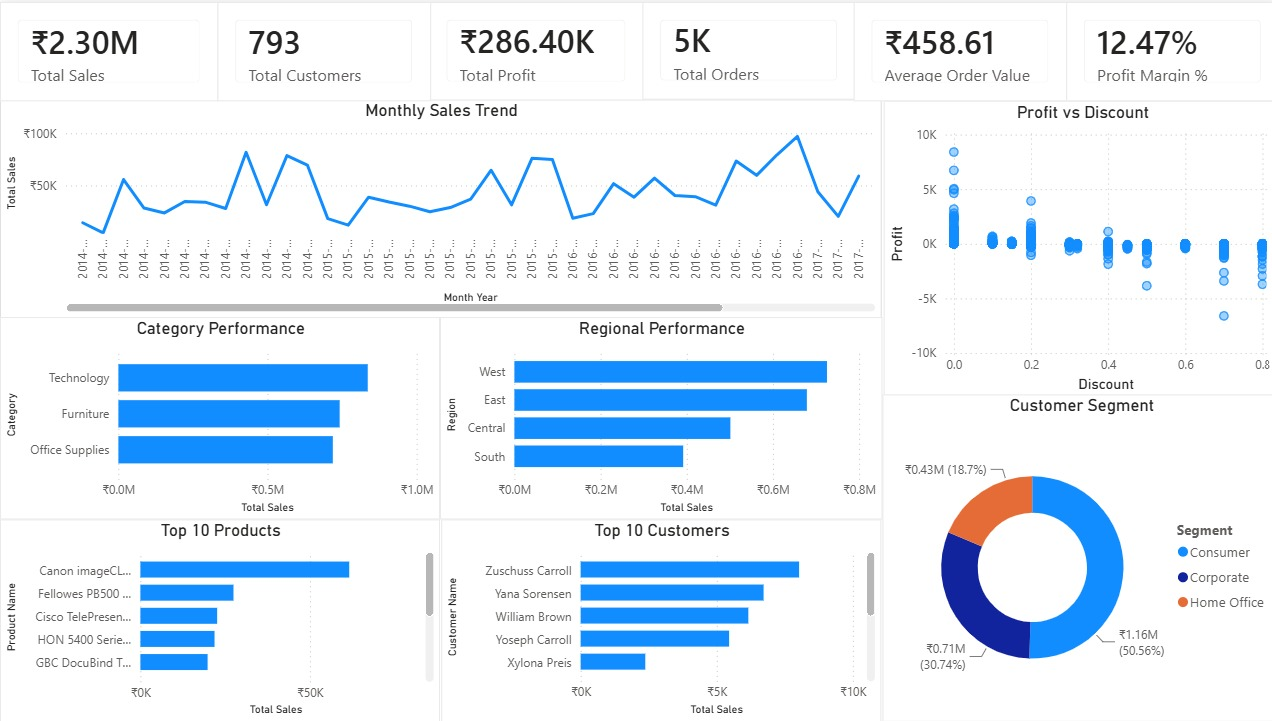

Layout of this report page (visuals, bound fields, positions):
{"tool":"powerbi","page":{"name":"Page 1","canvas":[1280,720],"ordinal":0},"visuals":[{"type":"cardVisual","fields":{"Data":["Measures (2).Total Sales"]},"box":[0,0,218.8,99.1],"z":0,"group":"g1"},{"type":"lineChart","title":"Monthly Sales Trend","fields":{"Y":["Measures (2).Total Sales"],"Category":["Data Table.Month Year"]},"box":[0,98.8,881.2,218.8],"z":0},{"type":"barChart","title":"Category Performance ","fields":{"Category":["sales.Category"],"Y":["Measures (2).Total Sales"]},"box":[0,315,333.8,202.5],"z":1000},{"type":"cardVisual","fields":{"Data":["Measures (2).Total Profit"]},"box":[429,0,215,98.2],"z":2000,"group":"g1"},{"type":"barChart","title":"Regional Performance","fields":{"Category":["sales.Region"],"Y":["Measures (2).Total Sales"]},"box":[440,315,442.5,202.5],"z":2000},{"type":"barChart","title":"Top 10 Products","fields":{"Category":["sales.Product Name"],"Y":["Measures (2).Total Sales"]},"box":[0,517.5,440,202.5],"z":3000},{"type":"cardVisual","fields":{"Data":["Measures (2).Total Orders"]},"box":[642.2,0,213.8,97.5],"z":4000,"group":"g1"},{"type":"barChart","title":"Top 10 Customers","fields":{"Category":["sales.Customer Name"],"Y":["Measures (2).Total Sales"]},"box":[441.2,518,440,202],"z":4000},{"type":"scatterChart","title":"Profit vs Discount","fields":{"X":["sales.Discount"],"Y":["sales.Profit"]},"box":[883.8,98.8,397,297.5],"z":5000},{"type":"cardVisual","fields":{"Data":["Measures (2).Total Customers"]},"box":[217,0,213.8,99.1],"z":6000,"group":"g1"},{"type":"donutChart","title":"Customer  Segment","fields":{"Category":["sales.Segment"],"Y":["Measures (2).Total Sales"]},"box":[882.5,392.5,397.5,327.5],"z":6000},{"type":"group","id":"g1","title":"Group 1","box":[0,0,1280,99.1],"z":7000},{"type":"cardVisual","fields":{"Data":["Measures (2).Average Order Value"]},"box":[854.2,0,213.8,99.1],"z":8000,"group":"g1"},{"type":"cardVisual","fields":{"Data":["Measures (2).Profit Margin %"]},"box":[1066.2,0,213.8,99.1],"z":10000,"group":"g1"}]}

Visuals, with their boxes in screenshot pixels (x1, y1, x2, y2), scaled from the page's 1280x720 canvas onto the 1272x721 screenshot:
cardVisual - Measures (2).Total Sales: bbox=[0, 0, 217, 99]
"Monthly Sales Trend" lineChart: bbox=[0, 99, 876, 318]
"Category Performance " barChart: bbox=[0, 315, 332, 518]
cardVisual - Measures (2).Total Profit: bbox=[426, 0, 640, 98]
"Regional Performance" barChart: bbox=[437, 315, 877, 518]
"Top 10 Products" barChart: bbox=[0, 518, 437, 720]
cardVisual - Measures (2).Total Orders: bbox=[638, 0, 851, 98]
"Top 10 Customers" barChart: bbox=[438, 519, 876, 720]
"Profit vs Discount" scatterChart: bbox=[878, 99, 1271, 397]
cardVisual - Measures (2).Total Customers: bbox=[216, 0, 428, 99]
"Customer  Segment" donutChart: bbox=[877, 393, 1271, 720]
"Group 1" group: bbox=[0, 0, 1271, 99]
cardVisual - Measures (2).Average Order Value: bbox=[849, 0, 1061, 99]
cardVisual - Measures (2).Profit Margin %: bbox=[1060, 0, 1271, 99]
